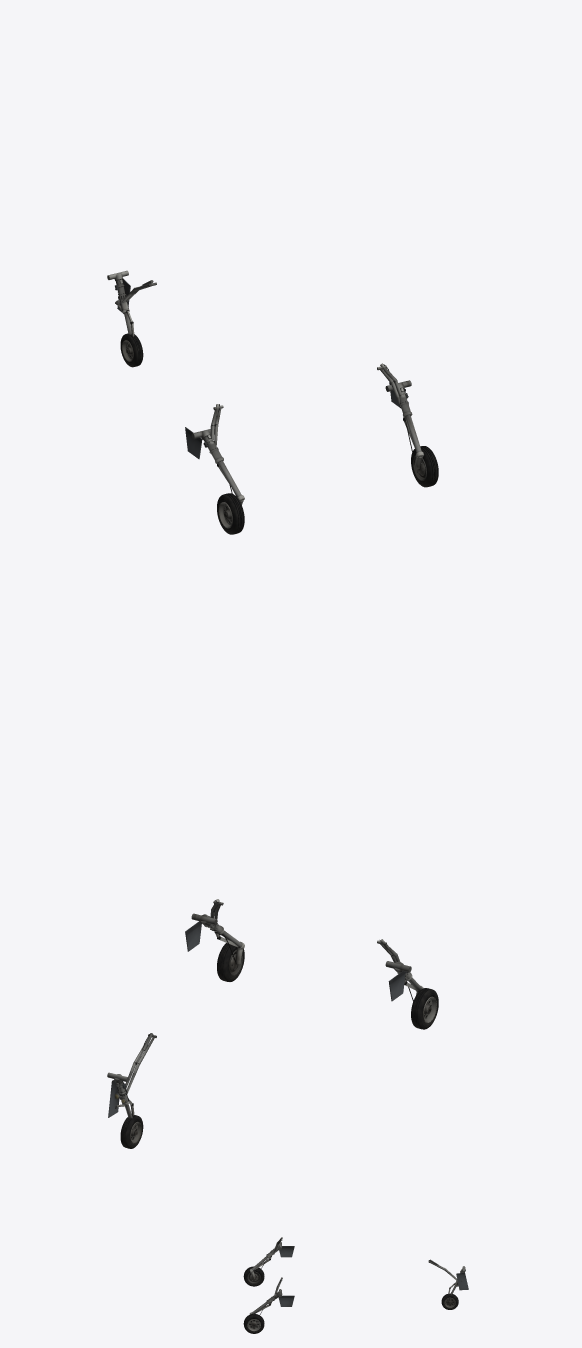
Rendered from f117_gear.glb.
3 renders of one model, top to bottom at view 1: azimuth 30°, elevation 25°; view 2: azimuth 150°, elevation 25°; view 3: azimuth 270°, elevation 25°, orthographic. The views are drawn at different scales.
Parts seen in each view (by area): view 1: gear_n, gear_m_l, gear_w_l, gear_m_r, gear_w_r; view 2: gear_n, gear_m_r, gear_w_l, gear_m_l, gear_w_r; view 3: gear_n, gear_m_l, gear_m_r, gear_w_r, gear_w_l.
Boxes of the visible parts, box(x1,y1,x2,y2) form: gear_n: box(107, 270, 143, 367); gear_m_l: box(185, 427, 244, 504); gear_w_l: box(217, 493, 244, 534); gear_m_r: box(385, 380, 423, 469); gear_w_r: box(411, 446, 438, 487); gear_n: box(107, 1072, 143, 1148); gear_m_r: box(185, 913, 244, 964); gear_w_l: box(411, 988, 438, 1029); gear_m_l: box(385, 961, 423, 1001); gear_w_r: box(217, 943, 244, 981); gear_n: box(441, 1266, 468, 1309); gear_m_l: box(249, 1242, 294, 1278); gear_m_r: box(249, 1289, 294, 1314); gear_w_r: box(243, 1314, 264, 1333); gear_w_l: box(243, 1266, 264, 1286).
Size of the model in its own units: 4.54 by 5.3 by 20.07.
Materials: 1 (1 with a texture image).
